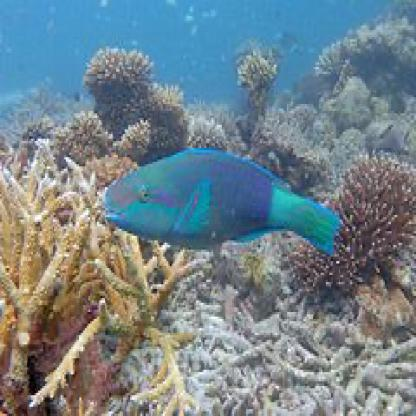parrot: (100, 128, 349, 281)
